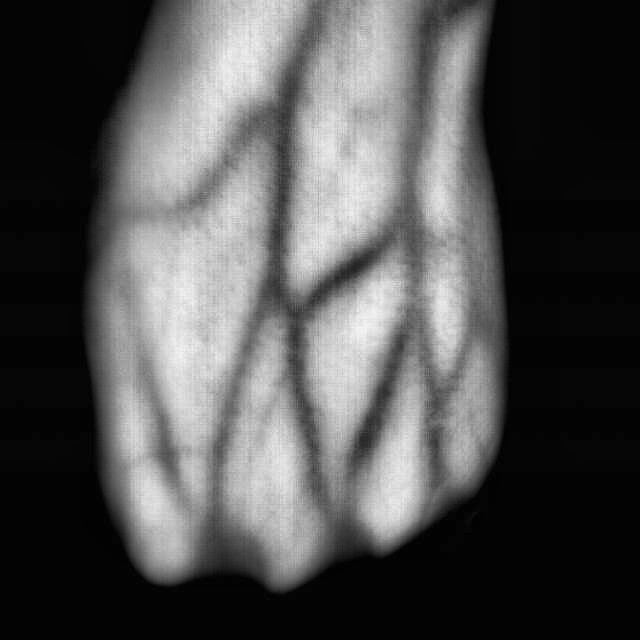Vein: (197, 25, 431, 436)
